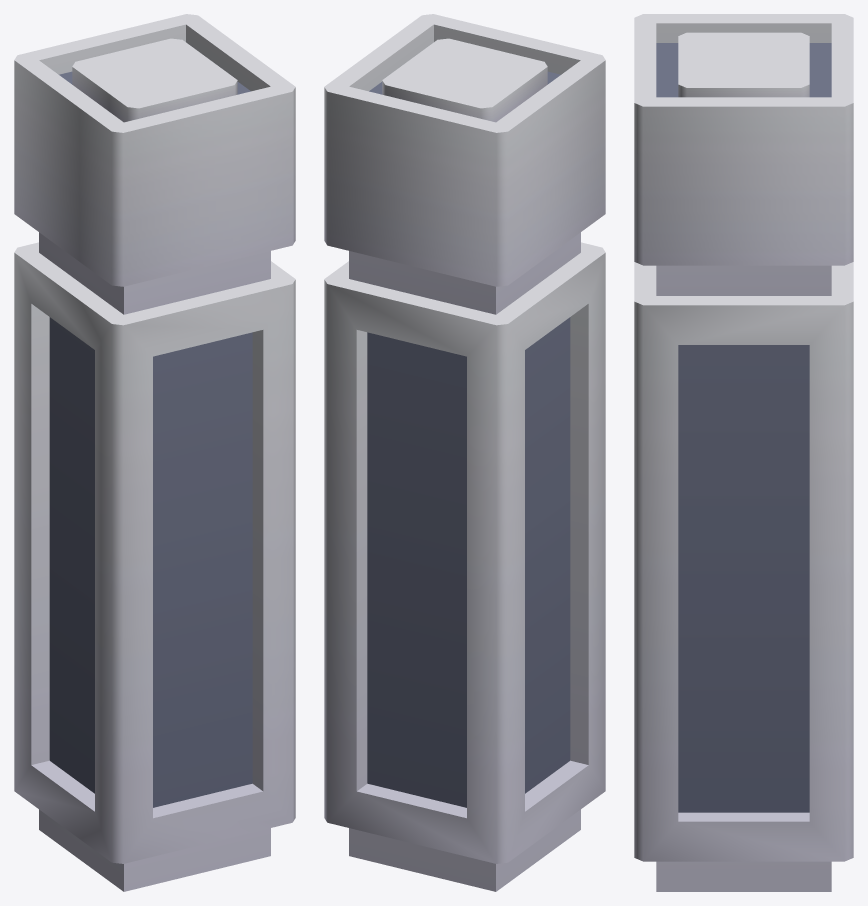
The model's file is low-detail-building-a.glb.
3 renders of one model, left to right at view 1: azimuth 30°, elevation 25°; view 2: azimuth 150°, elevation 25°; view 3: azimuth 270°, elevation 25°, orthographic. The views are drawn at different scales.
Parts seen in each view (by area): view 1: low-detail-building-a; view 2: low-detail-building-a; view 3: low-detail-building-a.
Part boxes in pixels (bbox=[...]): low-detail-building-a: bbox=[14, 14, 295, 891]; low-detail-building-a: bbox=[324, 14, 605, 891]; low-detail-building-a: bbox=[634, 14, 853, 891].
Size of the model in its own units: 0.5001 by 2 by 0.5001.
Materials: 1 (1 with a texture image).
